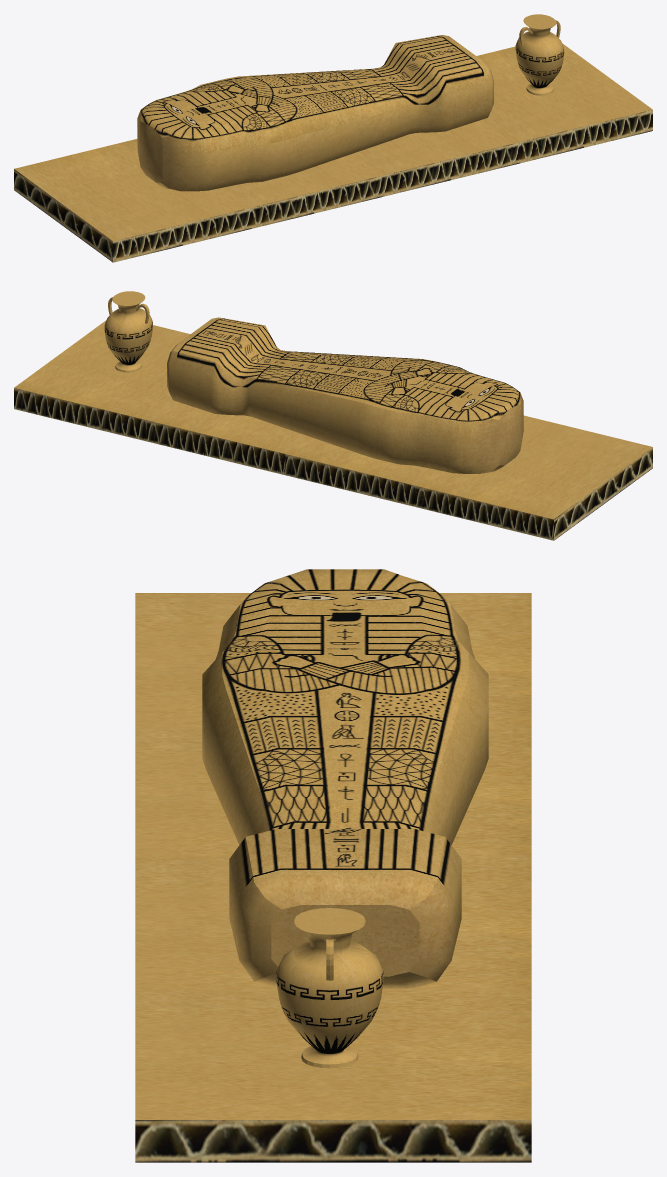
The model's file is Ancient Decorated Platform 3.fbx.
3 views of the same model, one above another, from view 1: azimuth 30°, elevation 25°; view 2: azimuth 150°, elevation 25°; view 3: azimuth 270°, elevation 25° (orthographic). The views are drawn at different scales.
Visible parts, largest first — view 1: Ancient_Sarcophagus_3, Ancient_Platform_7_1, Ancient_Platform_7_4, Ancient_Platform_7_3, Ancient_Platform_7_2, Ancient_Storage_Vase_7_1; view 2: Ancient_Sarcophagus_3, Ancient_Platform_7_1, Ancient_Platform_7_4, Ancient_Platform_7_3, Ancient_Platform_7_2, Ancient_Storage_Vase_7_1; view 3: Ancient_Sarcophagus_3, Ancient_Platform_7_4, Ancient_Platform_7_3, Ancient_Platform_7_1, Ancient_Platform_7_2, Ancient_Storage_Vase_7_1.
Boxes of the visible parts, bbox=[...] form: Ancient_Sarcophagus_3: bbox=[137, 35, 493, 191]; Ancient_Platform_7_1: bbox=[14, 139, 251, 262]; Ancient_Platform_7_4: bbox=[476, 43, 652, 163]; Ancient_Platform_7_3: bbox=[353, 120, 520, 196]; Ancient_Platform_7_2: bbox=[219, 153, 383, 228]; Ancient_Storage_Vase_7_1: bbox=[515, 14, 564, 95]; Ancient_Sarcophagus_3: bbox=[167, 317, 523, 473]; Ancient_Platform_7_1: bbox=[415, 415, 652, 540]; Ancient_Platform_7_4: bbox=[14, 320, 190, 441]; Ancient_Platform_7_3: bbox=[146, 402, 307, 474]; Ancient_Platform_7_2: bbox=[283, 436, 441, 506]; Ancient_Storage_Vase_7_1: bbox=[104, 291, 152, 372]; Ancient_Sarcophagus_3: bbox=[202, 569, 488, 988]; Ancient_Platform_7_4: bbox=[135, 984, 531, 1162]; Ancient_Platform_7_3: bbox=[135, 856, 531, 990]; Ancient_Platform_7_1: bbox=[135, 593, 531, 728]; Ancient_Platform_7_2: bbox=[135, 721, 531, 856]; Ancient_Storage_Vase_7_1: bbox=[276, 908, 383, 1068].
Size of the model in its own units: 42.22 by 6.67 by 13.42.
Materials: 5 (4 with a texture image).
